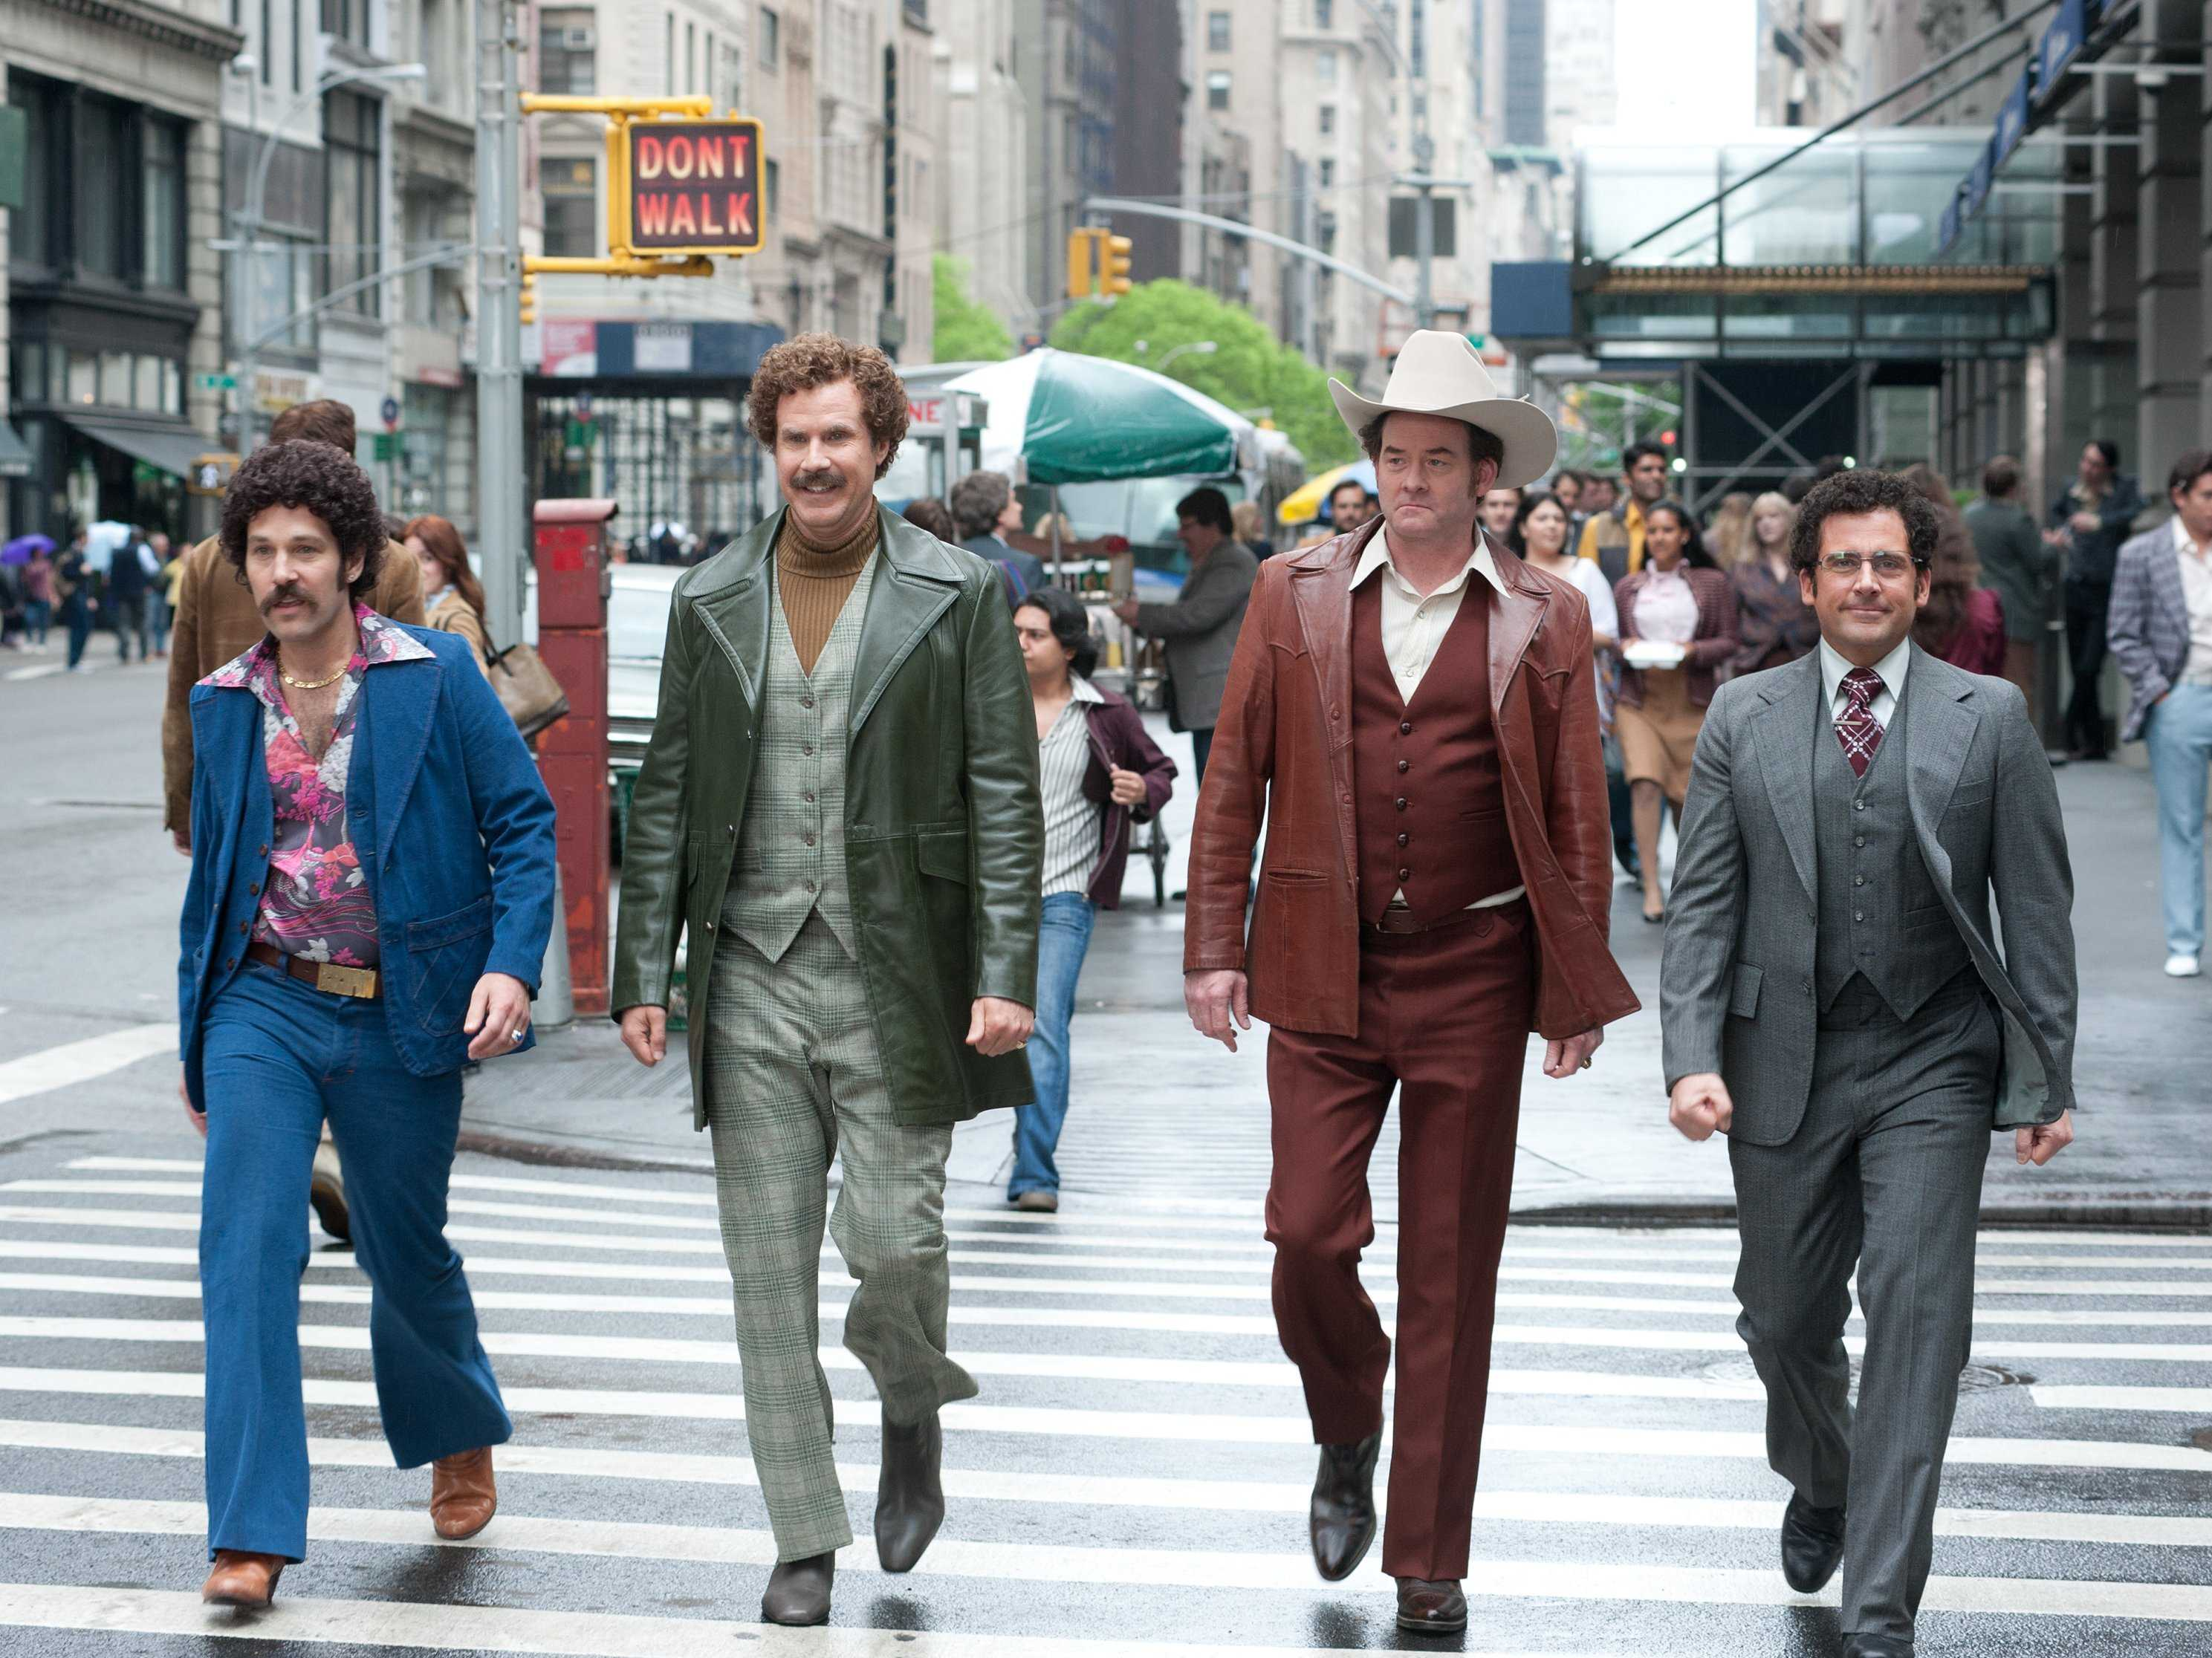feet: (164, 1353, 514, 1623), (1258, 1371, 1491, 1653), (712, 1405, 972, 1646), (1737, 1376, 1944, 1658), (982, 1094, 1094, 1219), (2149, 892, 2212, 987), (1615, 836, 1679, 928)
